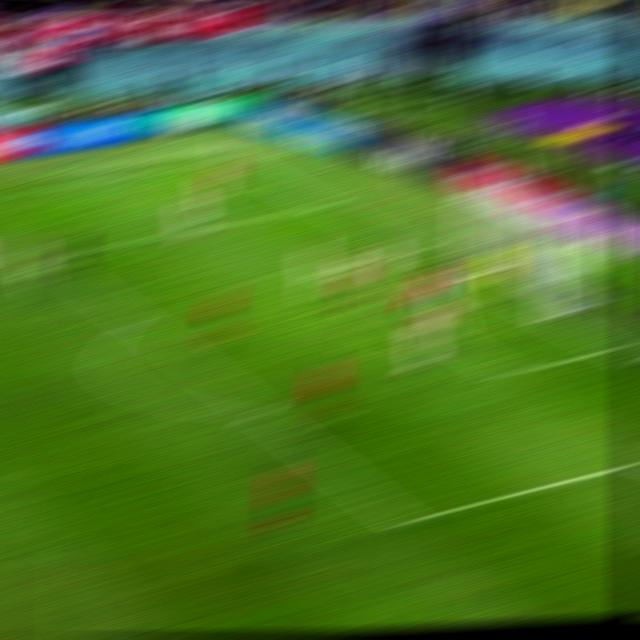bigarea_bottom_inner: (384, 509, 424, 537)
bigarea_top_inner: (31, 250, 64, 267)
bigarea_top_outter: (308, 199, 340, 213)
bottom_arc_area_intersection: (241, 402, 279, 426)
smallarea_bottom_inner: (490, 360, 526, 388)
smallarea_bottom_outter: (596, 338, 630, 361)
smallarea_top_inner: (309, 259, 340, 280)
smallarea_top_outter: (399, 241, 432, 262)
top_arc_area_intersection: (116, 308, 155, 334)
